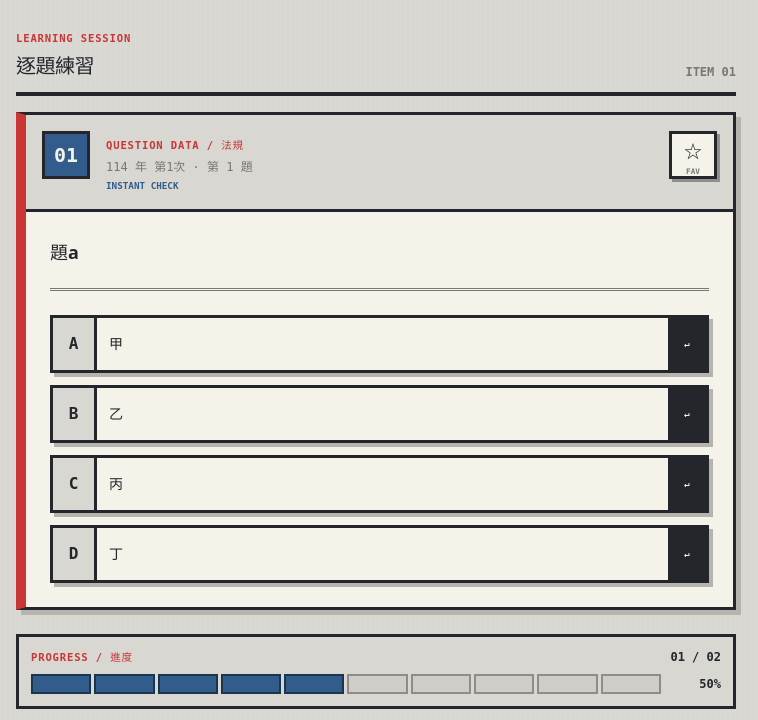
Test: QuizRunner › reveals the answer and explanation after selecting, without auto-advancing
The image size is (758, 720).
Check: the progress indicator named "作答進度 50%" is shown, box x1=31 y1=674 x2=661 y2=694
Click the text "丙".
click(116, 483)  # box x1=109 y1=474 x2=123 y2=493
(page scrolled)
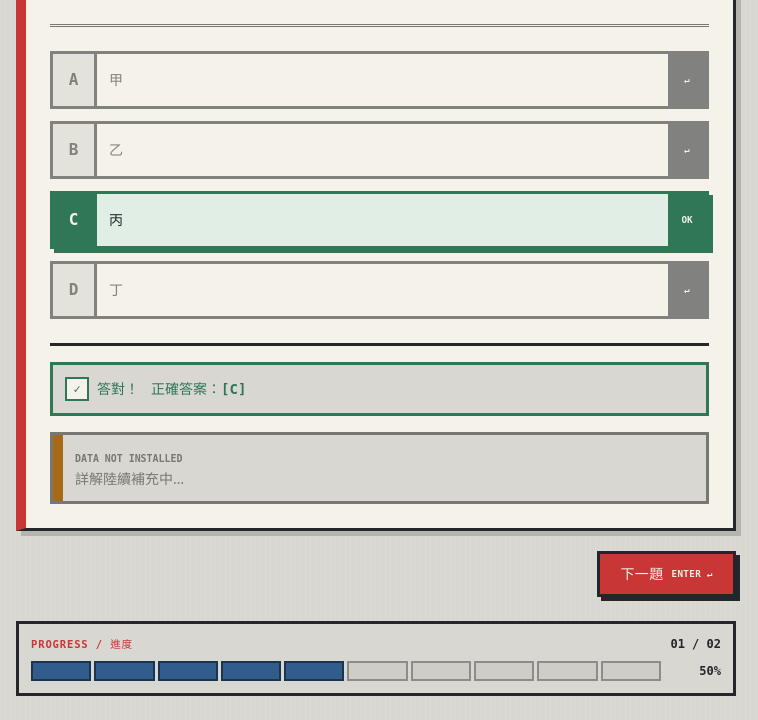
Check: the text "題b" is not shown
Check: the text "正確答案：[C]" is shown, box x1=151 y1=379 x2=246 y2=399
Check: the text "詳解陸續補充中" is shown, box x1=75 y1=469 x2=184 y2=488
Click the button "下一題 ENTER ↵".
click(667, 574)  # box x1=597 y1=551 x2=736 y2=597
(page scrolled)
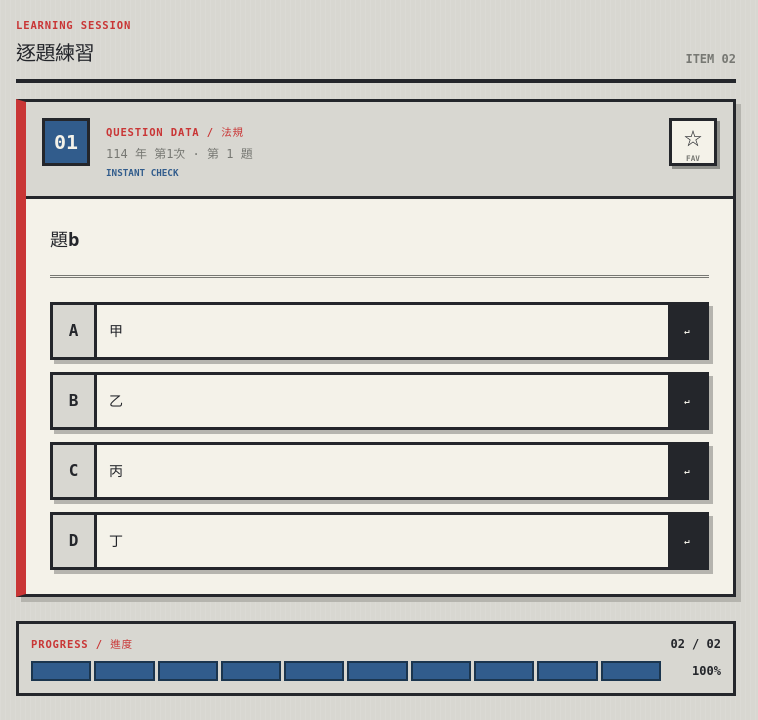
Check: the text "題b" is shown, box x1=50 y1=223 x2=709 y2=278
